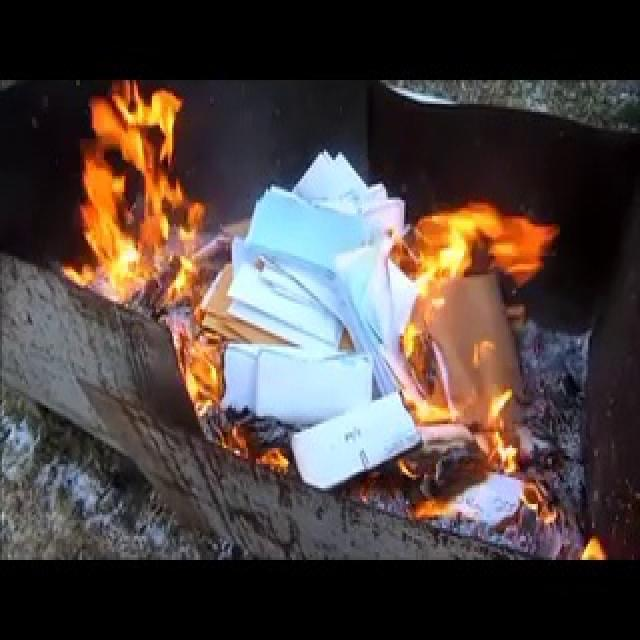fire: (51, 122, 217, 336), (383, 194, 509, 456)
